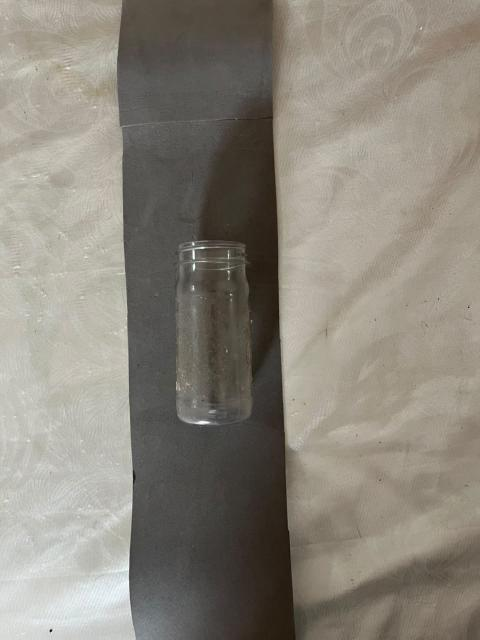PET: (135, 182, 288, 467)
